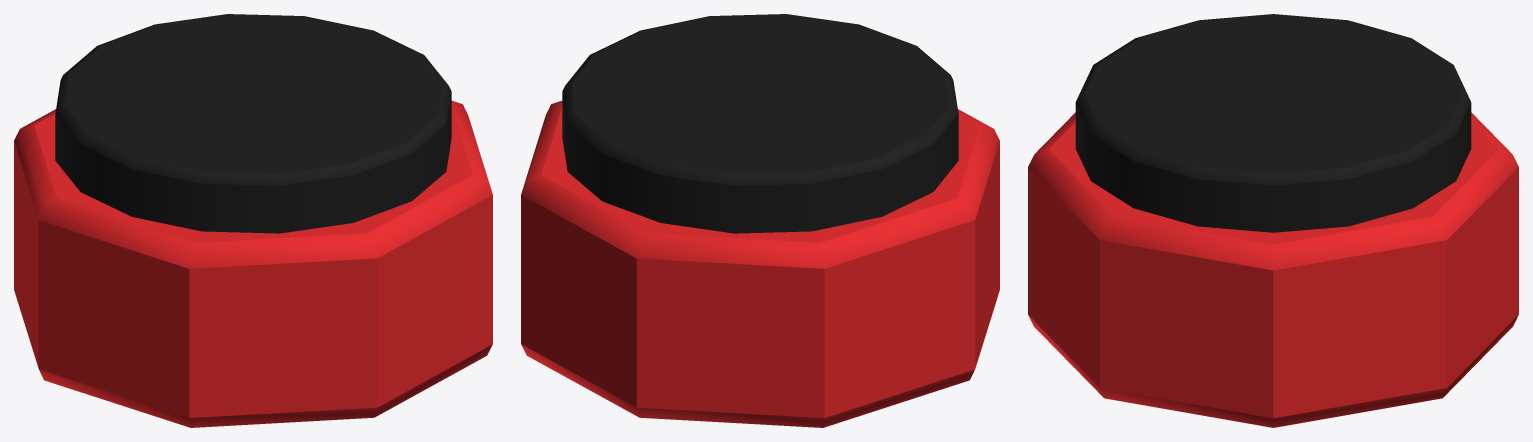
File: cream_1.fbx
3 views of the same model, side by side, from view 1: azimuth 30°, elevation 25°; view 2: azimuth 150°, elevation 25°; view 3: azimuth 270°, elevation 25° (orthographic).
Visible parts, largest first — view 1: cream 1; view 2: cream 1; view 3: cream 1.
Part boxes in pixels (x1,y1,x2,y2): cream 1: [14, 14, 492, 427]; cream 1: [521, 14, 999, 427]; cream 1: [1028, 14, 1518, 427].
Size of the model in its own units: 2 by 1.07 by 2.
